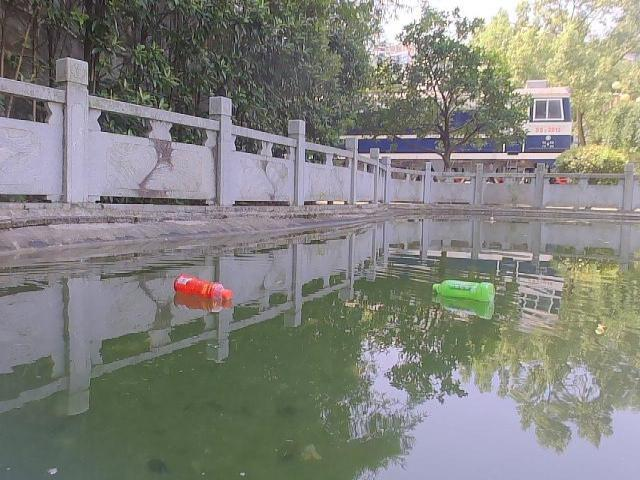Bottle: (165, 272, 240, 306), (426, 276, 502, 306)
